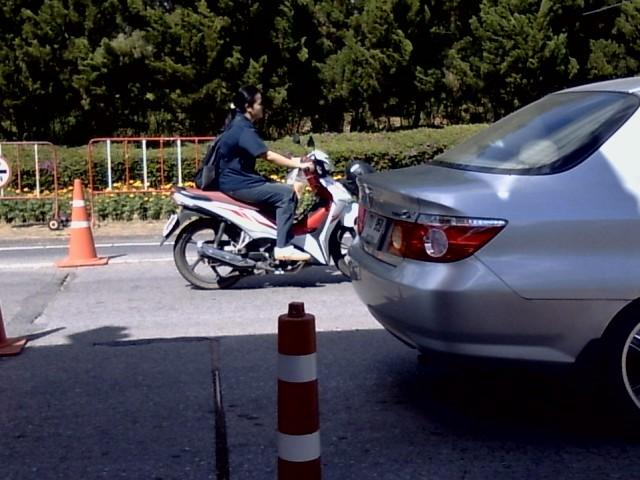helmet: (232, 84, 263, 121)
motor: (159, 137, 357, 288)
person: (219, 85, 310, 259)
